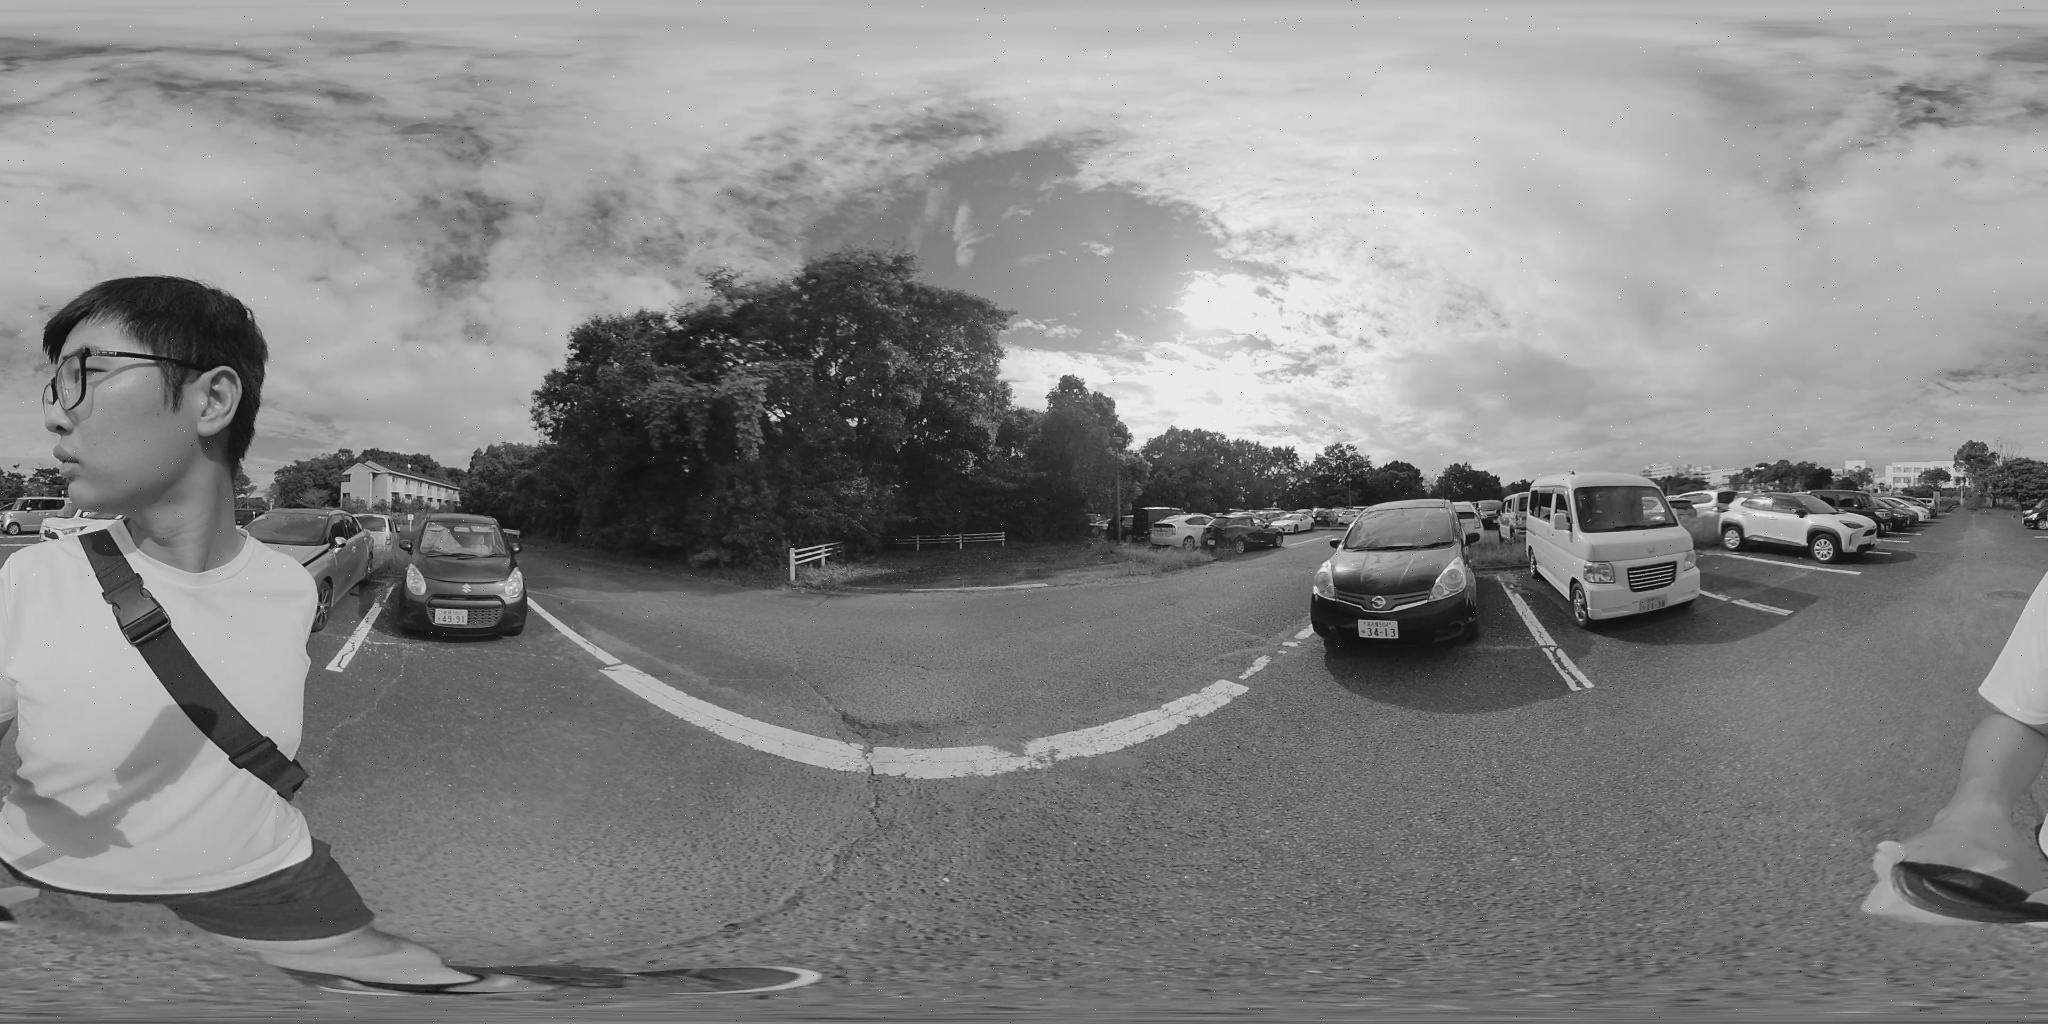car: (1529, 473, 1699, 619), (1314, 508, 1486, 650), (409, 512, 529, 636), (1701, 490, 1883, 560), (1821, 492, 1930, 529), (4, 494, 81, 536), (1149, 516, 1224, 547), (1209, 513, 1275, 549), (1876, 492, 1934, 526), (1271, 511, 1317, 532)
